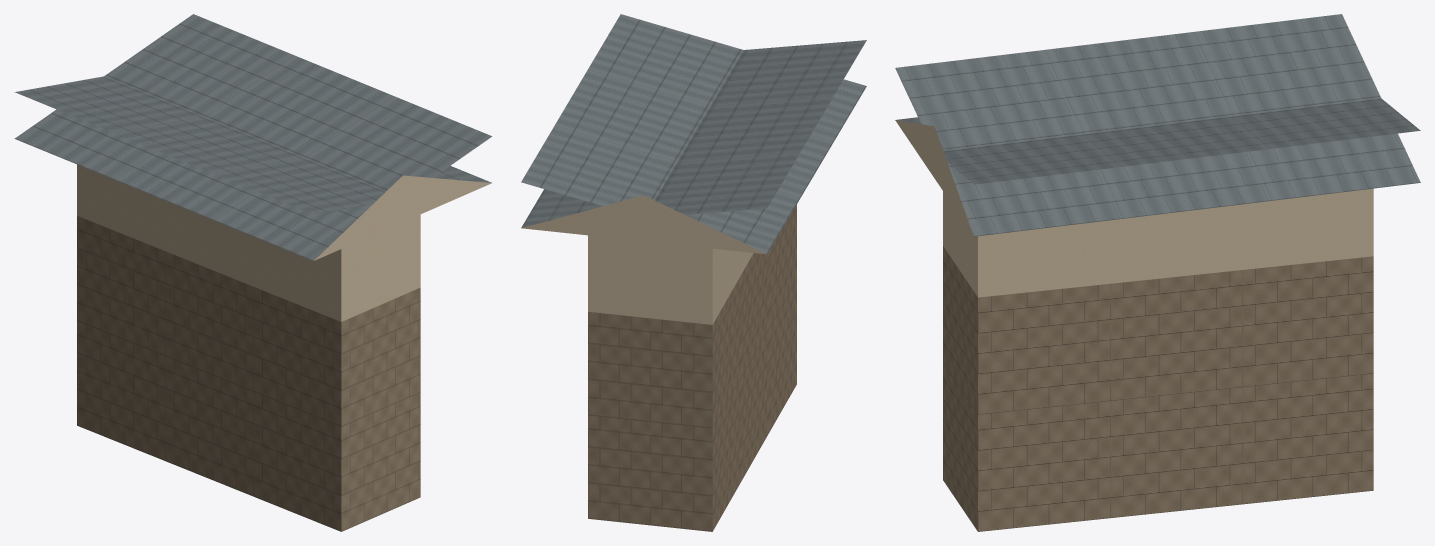
Rendered from bld_c22_43_374.gltf.
The picture shows the model from 3 angles, left to right: view 1: azimuth 30°, elevation 25°; view 2: azimuth 150°, elevation 25°; view 3: azimuth 270°, elevation 25°; orthographic projection. The views are drawn at different scales.
Visible parts, largest first — view 1: bld_c22_43_374; view 2: bld_c22_43_374; view 3: bld_c22_43_374.
Part boxes in pixels (x1,y1,x2,y2): bld_c22_43_374: (14,14,491,531); bld_c22_43_374: (521,14,866,531); bld_c22_43_374: (895,14,1420,531).
Size of the model in its own units: 7.03 by 7.4 by 9.15.
Materials: 4 (4 with a texture image).
